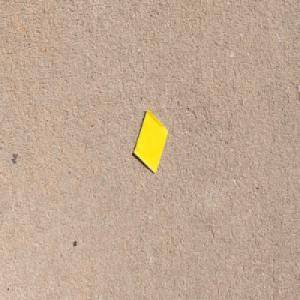PlasticPart: (133, 107, 169, 174)
